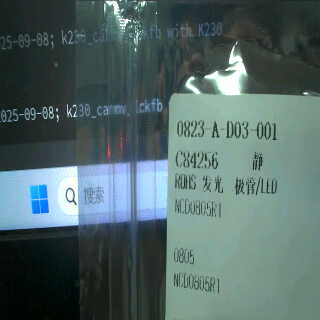LED: (203, 175, 287, 194)
